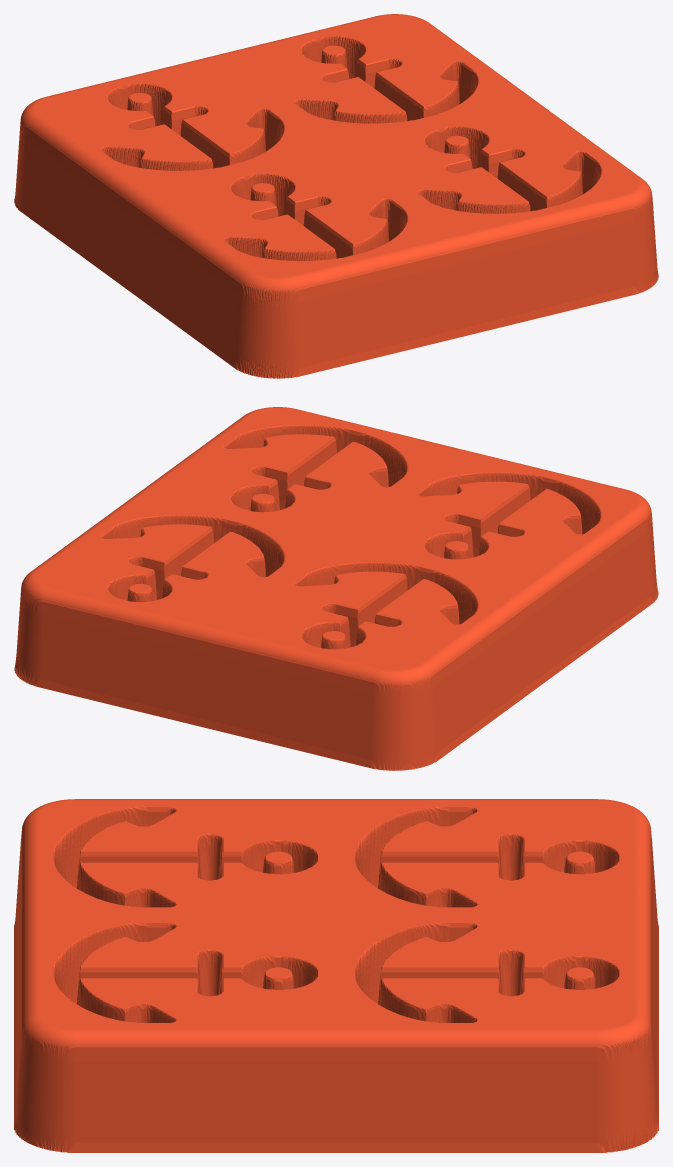
File: mold.glb
The picture shows the model from 3 angles, top to bottom: view 1: azimuth 30°, elevation 25°; view 2: azimuth 150°, elevation 25°; view 3: azimuth 270°, elevation 25°; orthographic projection. The views are drawn at different scales.
Visible parts, largest first — view 1: geometry_0; view 2: geometry_0; view 3: geometry_0.
Part boxes in pixels (box(x1,y1,x2,y2)): geometry_0: box(14, 14, 658, 378); geometry_0: box(14, 407, 658, 770); geometry_0: box(14, 799, 658, 1152).
Bounding box in the file's own units: 0.0862 × 0.0182 × 0.0942.
